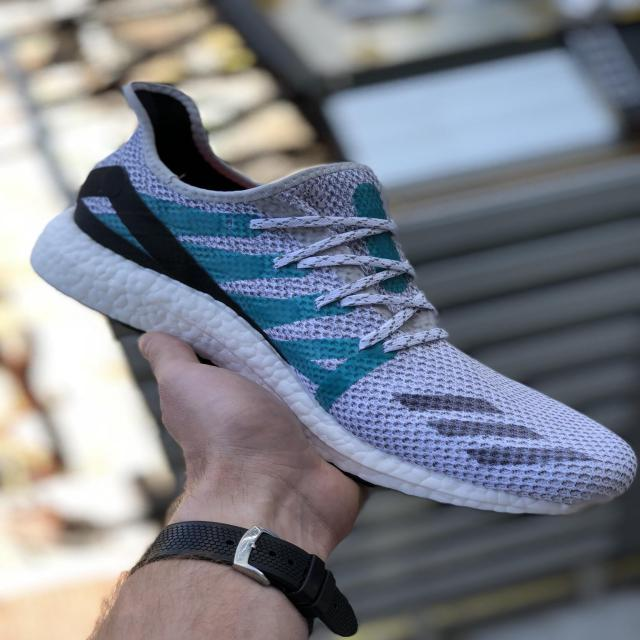shoe: (30, 73, 640, 525)
